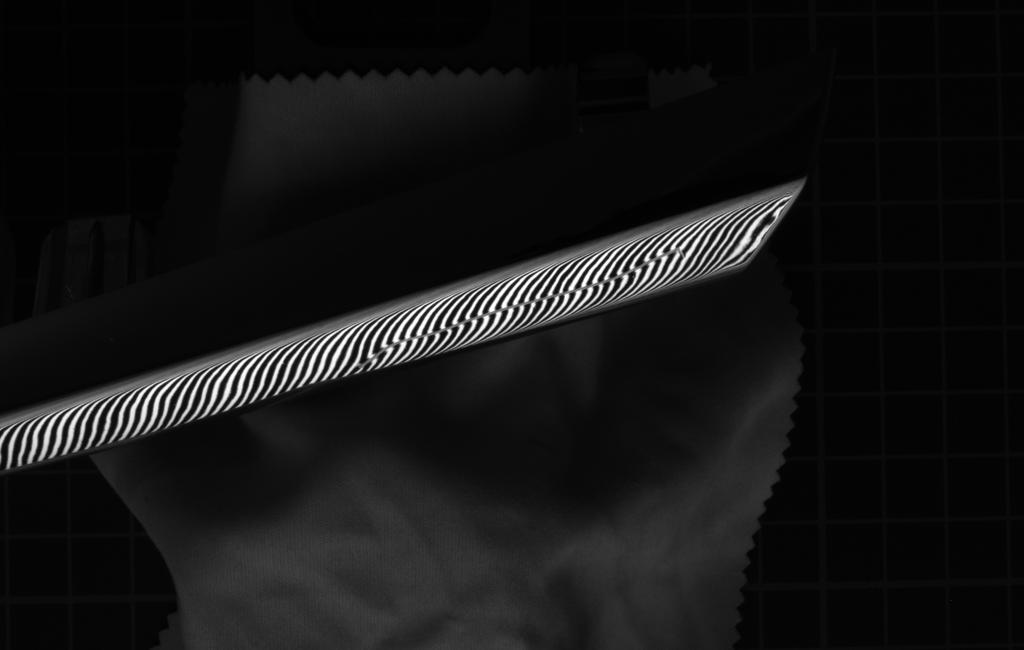Scratch: (338, 238, 695, 380)
